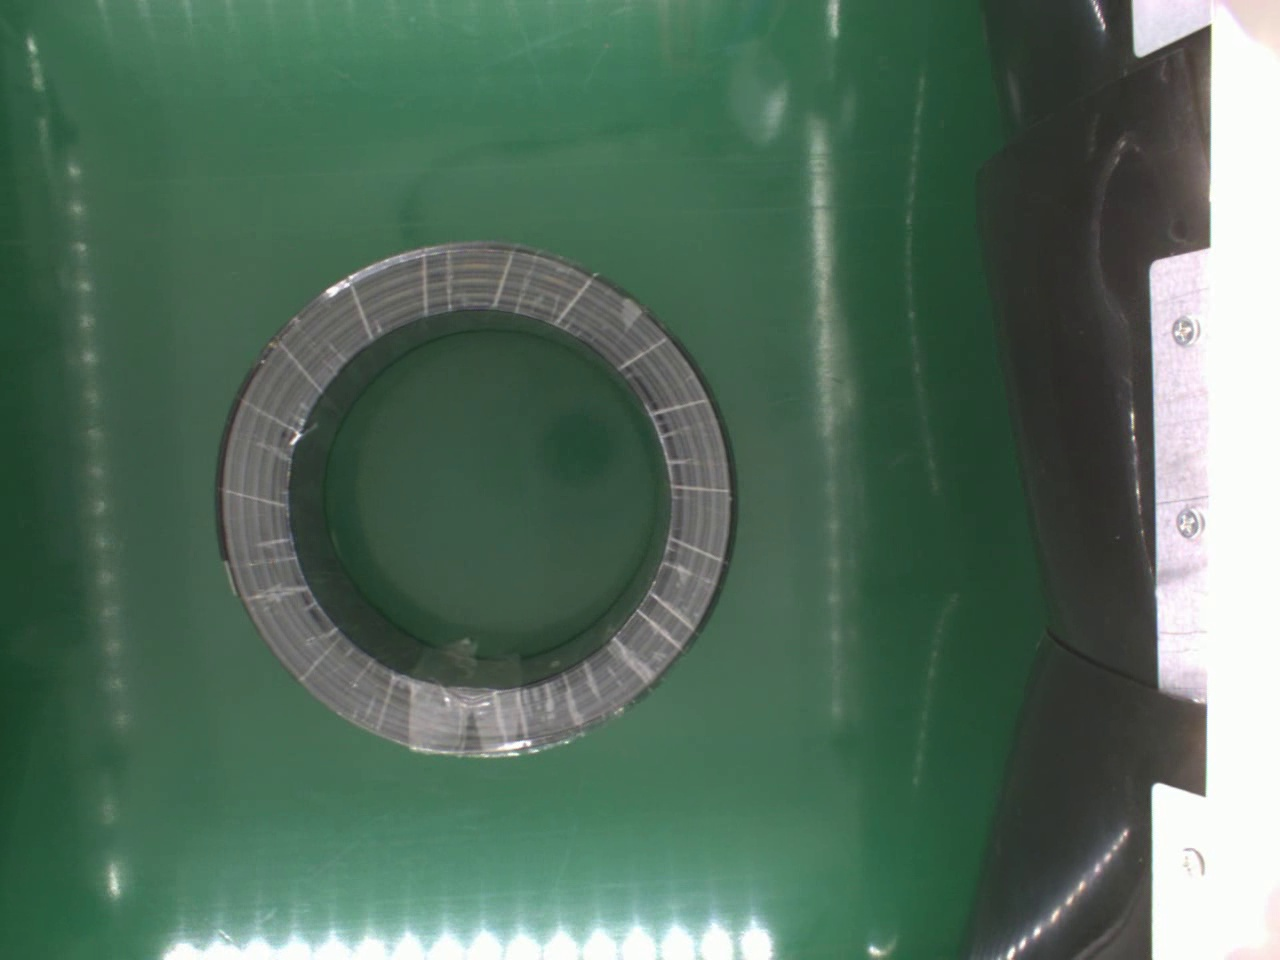black: (216, 235, 745, 764)
